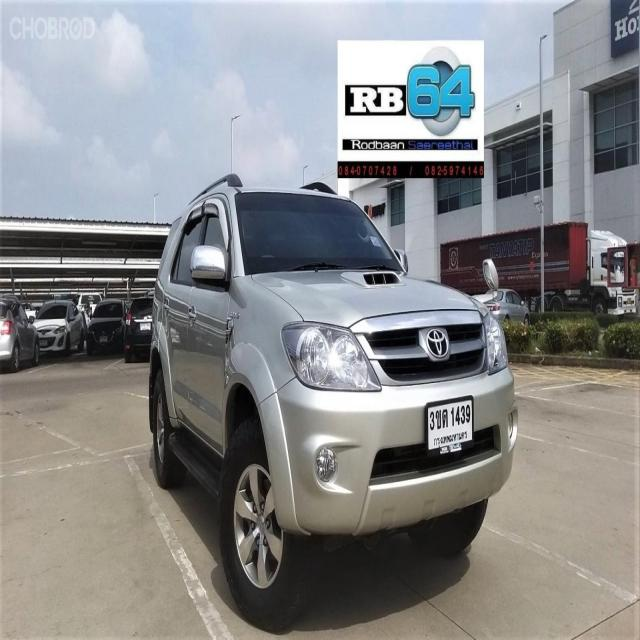license_plate: (424, 394, 475, 456)
